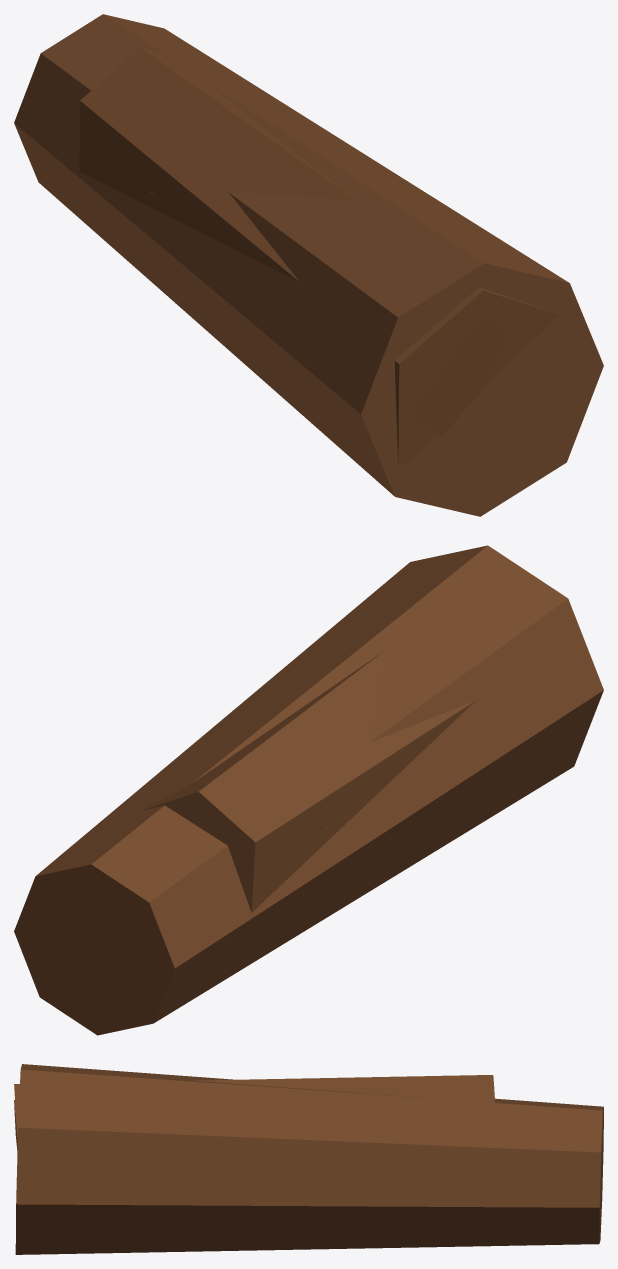
Rendered from Tree_Stump.fbx.
3 views of the same model, one above another, from view 1: azimuth 30°, elevation 25°; view 2: azimuth 150°, elevation 25°; view 3: azimuth 270°, elevation 25° (orthographic). The views are drawn at different scales.
Parts seen in each view (by area): view 1: Tree_Stump_LOD0_Wood, Tree_Stump_LOD1_Wood, Tree_Stump_LOD2_Wood; view 2: Tree_Stump_LOD0_Wood, Tree_Stump_LOD1_Wood; view 3: Tree_Stump_LOD0_Wood, Tree_Stump_LOD1_Wood.
Boxes of the visible parts, x1,y1,x2,y2 form: Tree_Stump_LOD0_Wood: (14,14,603,516); Tree_Stump_LOD1_Wood: (79,47,560,465); Tree_Stump_LOD2_Wood: (150,191,511,436); Tree_Stump_LOD0_Wood: (14,545,603,1035); Tree_Stump_LOD1_Wood: (141,650,475,912); Tree_Stump_LOD0_Wood: (15,1064,603,1254); Tree_Stump_LOD1_Wood: (14,1075,495,1138).
Bounding box in the file's own units: 75.94 × 75.96 × 223.
